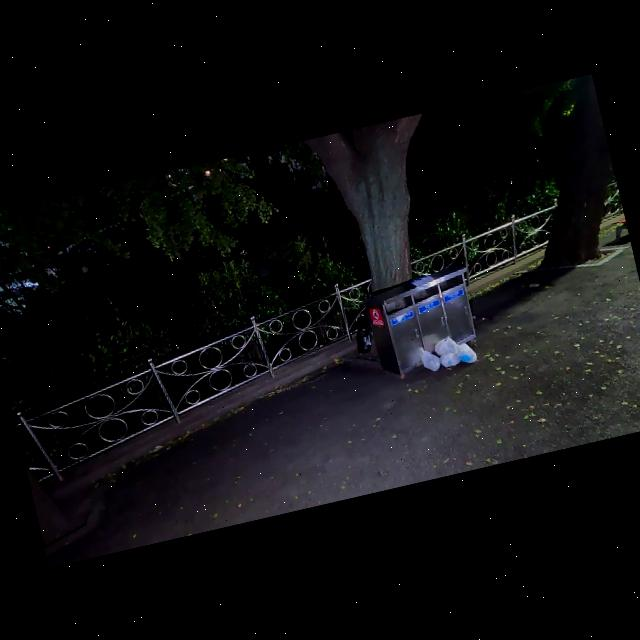trash: (348, 312, 376, 356), (453, 338, 477, 366), (419, 342, 441, 372), (432, 334, 460, 356), (436, 348, 459, 370)
